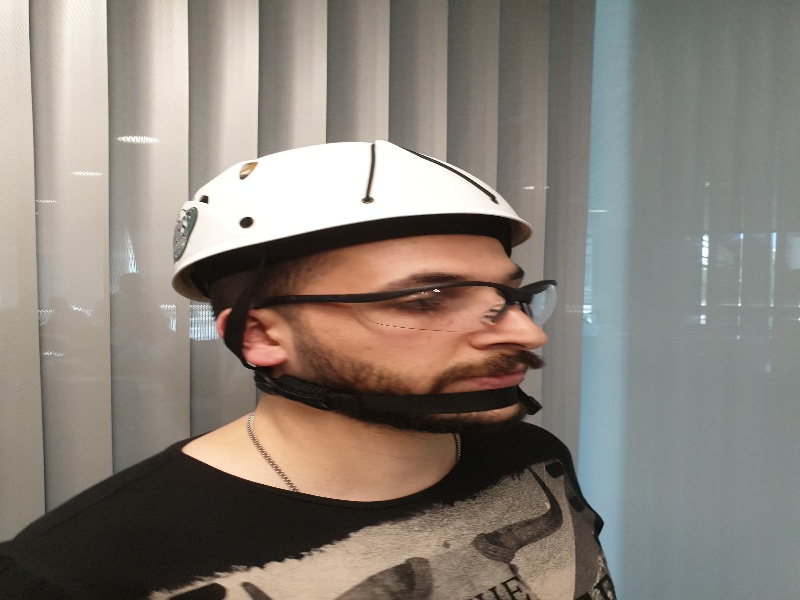Baret: (174, 140, 536, 264)
Gozluk: (259, 280, 562, 333)
